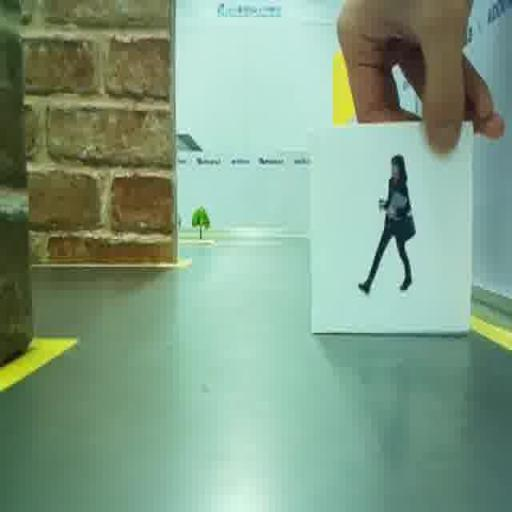human: (358, 155, 414, 293)
